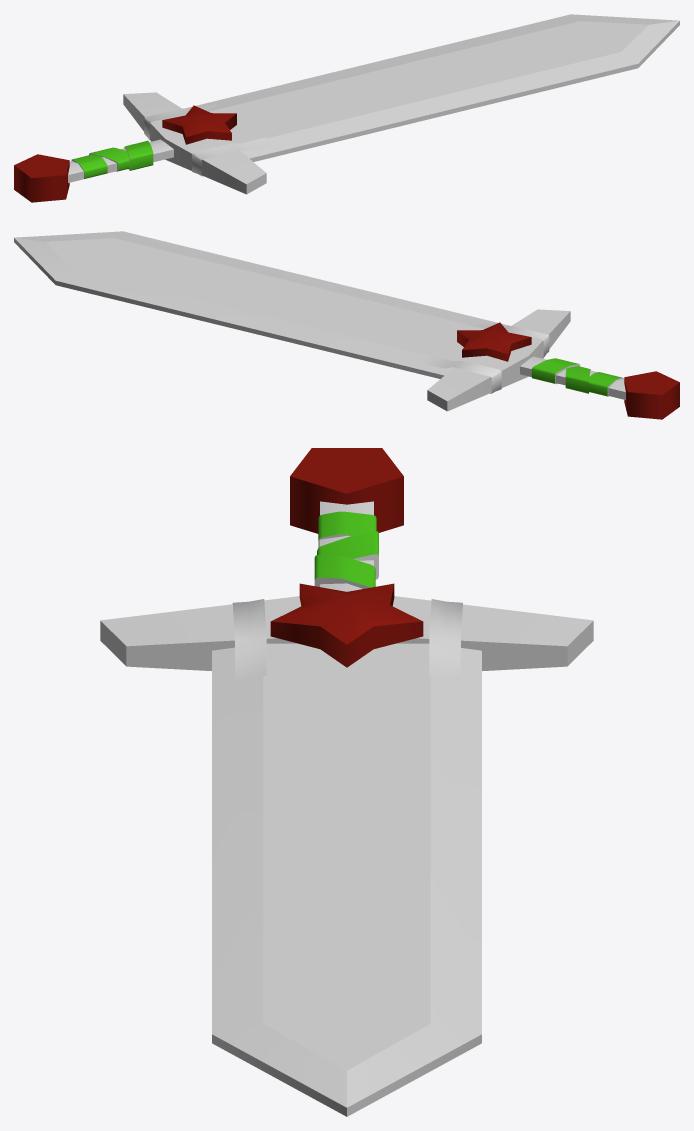
Rendered from sword.fbx.
The picture shows the model from 3 angles, top to bottom: view 1: azimuth 30°, elevation 25°; view 2: azimuth 150°, elevation 25°; view 3: azimuth 270°, elevation 25°; orthographic projection. The views are drawn at different scales.
Visible parts, largest first — view 1: sword, Object001; view 2: sword, Object001; view 3: sword, Object001.
Part boxes in pixels (bbox=[...]): sword: bbox=[14, 14, 679, 202]; Object001: bbox=[144, 104, 273, 176]; sword: bbox=[14, 231, 679, 419]; Object001: bbox=[420, 321, 549, 393]; sword: bbox=[100, 448, 593, 1116]; Object001: bbox=[232, 599, 462, 680].
Size of the model in its own units: 18.65 by 1.03 by 6.06.
